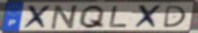D: (162, 5, 188, 29)
L: (108, 5, 130, 28)
N: (49, 4, 82, 30)
Q: (77, 4, 107, 30)
X: (21, 4, 53, 30), (132, 4, 164, 30)
